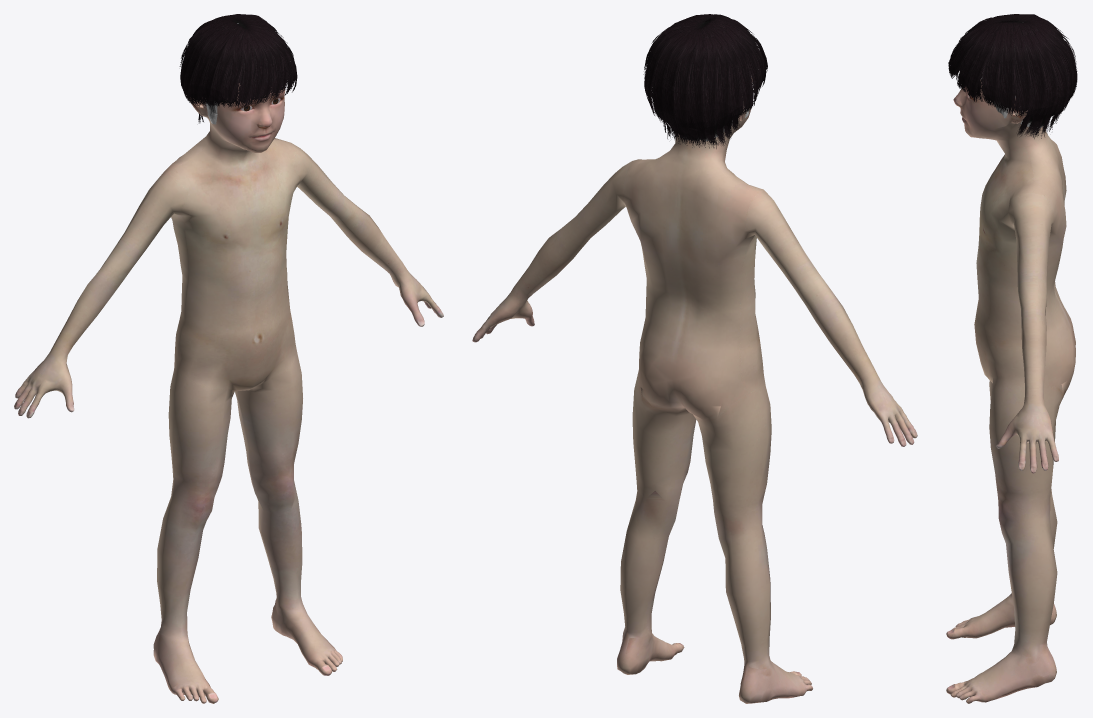
The model's file is nanhai.obj.
3 renders of one model, left to right at view 1: azimuth 30°, elevation 25°; view 2: azimuth 150°, elevation 25°; view 3: azimuth 270°, elevation 25°, orthographic. The views are drawn at different scales.
Parts seen in each view (by area): view 1: Duke_for_Genesis_Shape; view 2: Duke_for_Genesis_Shape; view 3: Duke_for_Genesis_Shape.
Part boxes in pixels (x1,y1,x2,y2): Duke_for_Genesis_Shape: (14,14,443,703); Duke_for_Genesis_Shape: (472,14,917,703); Duke_for_Genesis_Shape: (946,14,1077,703).
Size of the model in its own units: 61.17 by 89.52 by 16.62.
5 materials, 4 textured.
